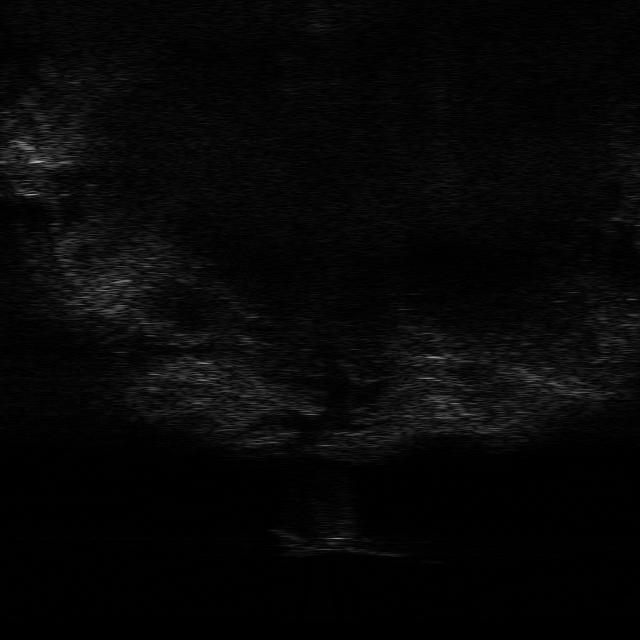plane: (268, 527, 408, 558)
